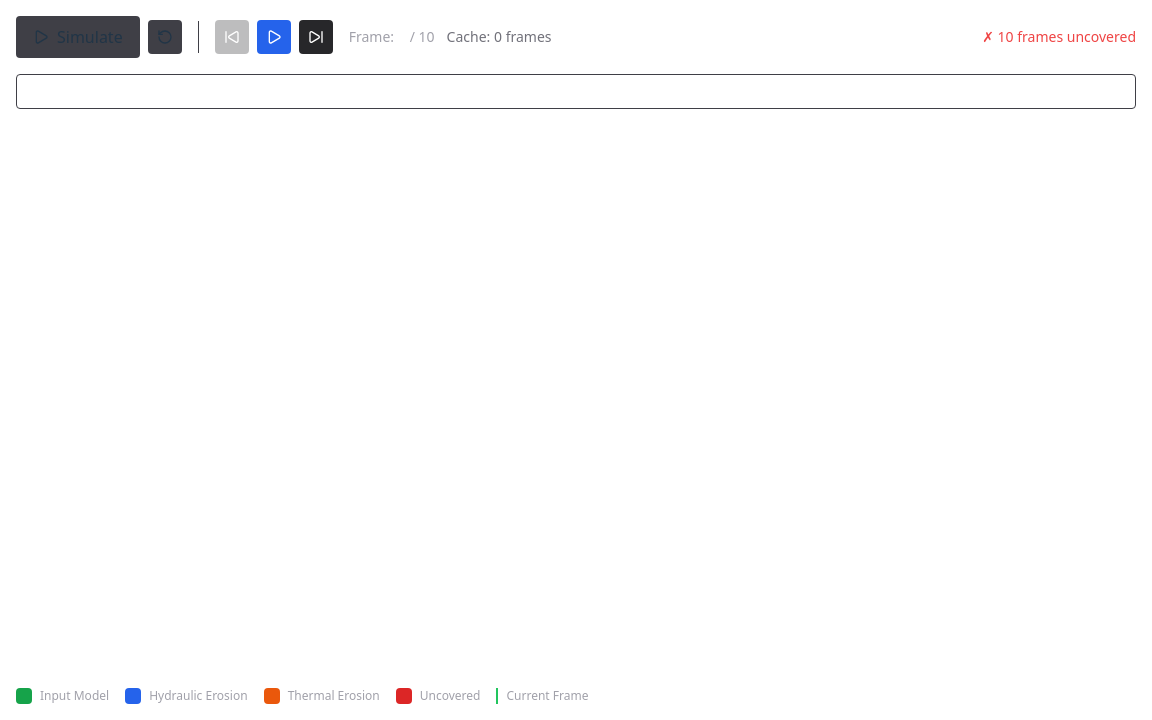
ConfigurationTimeline › handles pause button click
// Start playing
Click the button titled "Play" at (274, 37), box x1=257 y1=20 x2=291 y2=54
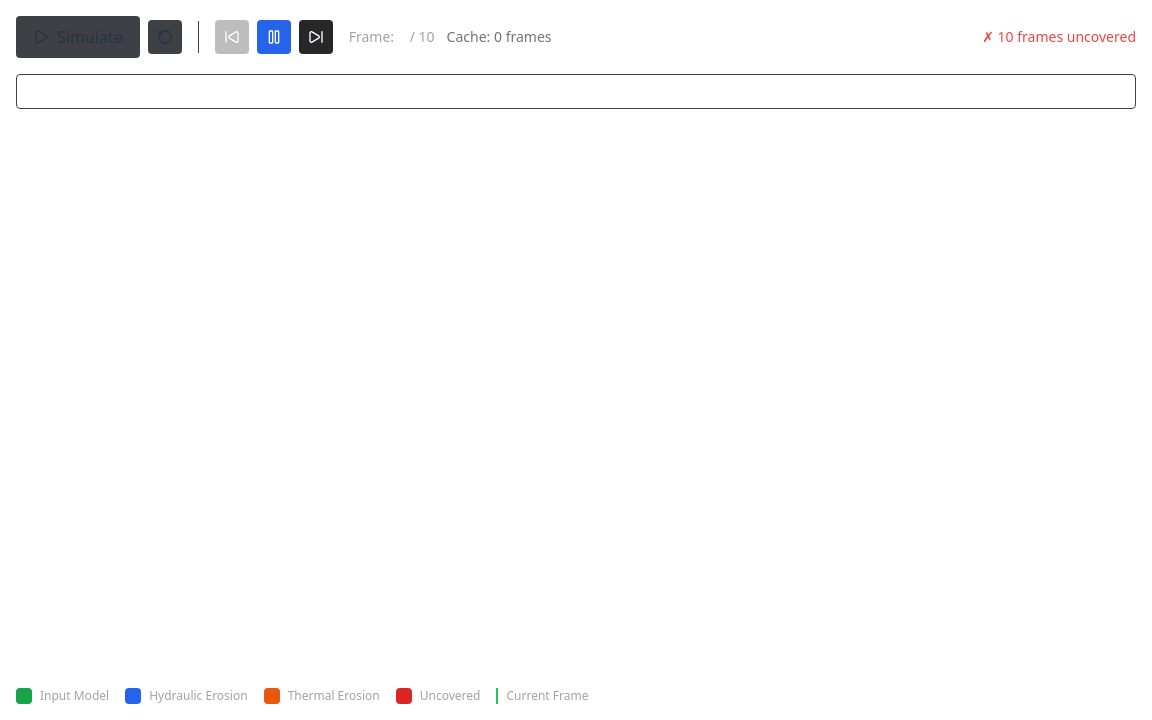
// Then pause
Click the button titled "Pause" at (274, 37), box x1=257 y1=20 x2=291 y2=54
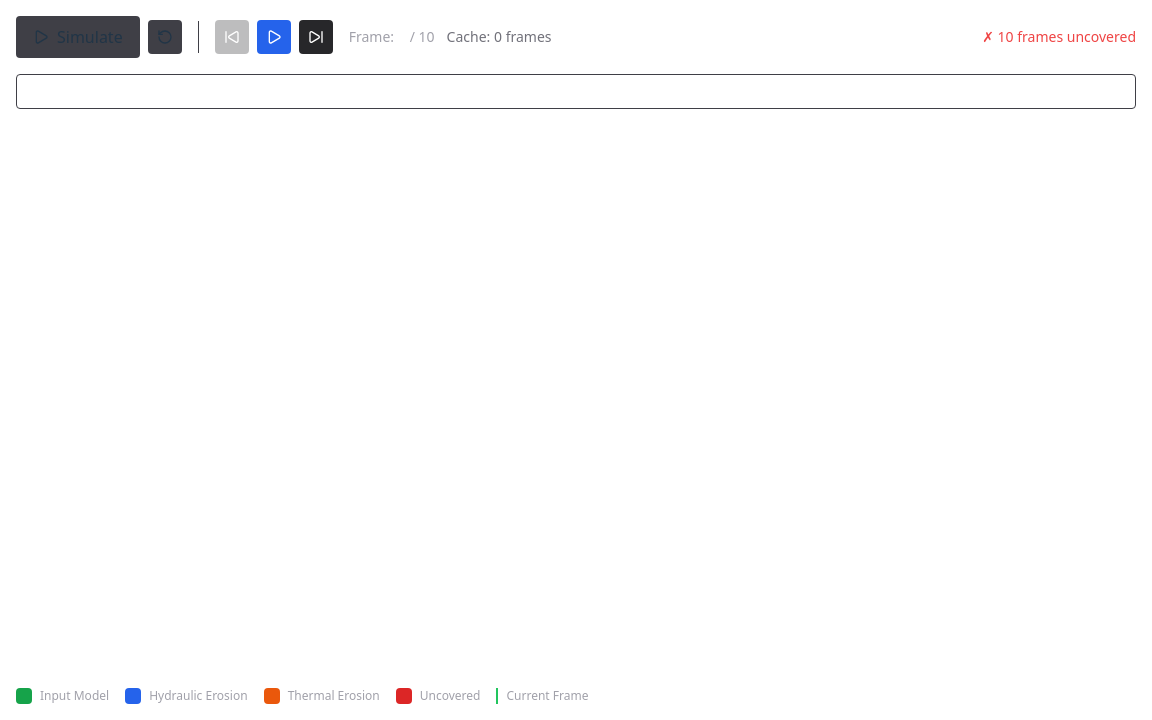
Now the button titled "Play" is shown, box x1=257 y1=20 x2=291 y2=54
